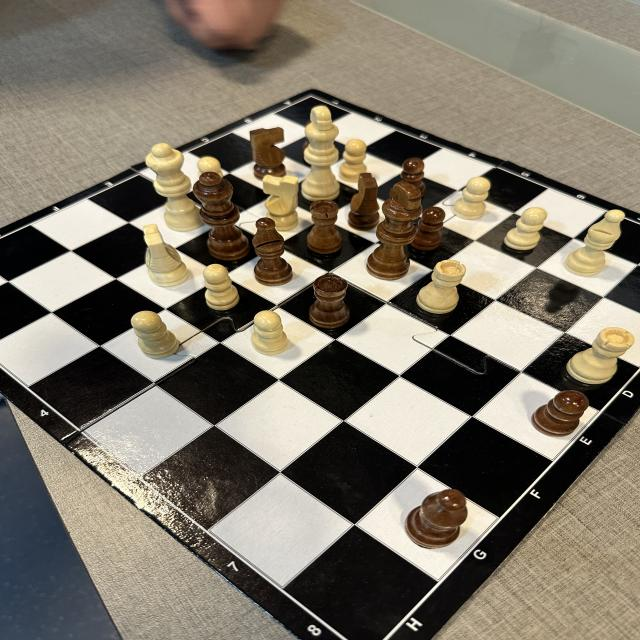Black-Bishop: (404, 488, 468, 550), (252, 218, 294, 286)
Black-King: (366, 181, 423, 281)
Black-Knight: (249, 126, 287, 180), (347, 172, 380, 232)
Black-Pawn: (531, 390, 590, 437), (411, 206, 446, 252), (400, 158, 425, 184)
Black-Queen: (192, 171, 251, 261)
Black-Rook: (308, 275, 351, 329), (306, 200, 344, 254)
White-Bishop: (563, 210, 625, 276)
White-King: (300, 105, 340, 202)
White-Knight: (142, 224, 190, 288), (262, 174, 300, 232)
White-Pawn: (130, 311, 180, 358), (504, 207, 547, 251), (203, 264, 240, 311), (452, 177, 491, 220), (252, 310, 288, 355), (338, 138, 367, 183), (197, 156, 223, 173)
White-Queen: (146, 143, 208, 232)
White-Rook: (566, 327, 635, 385), (416, 258, 466, 314)
